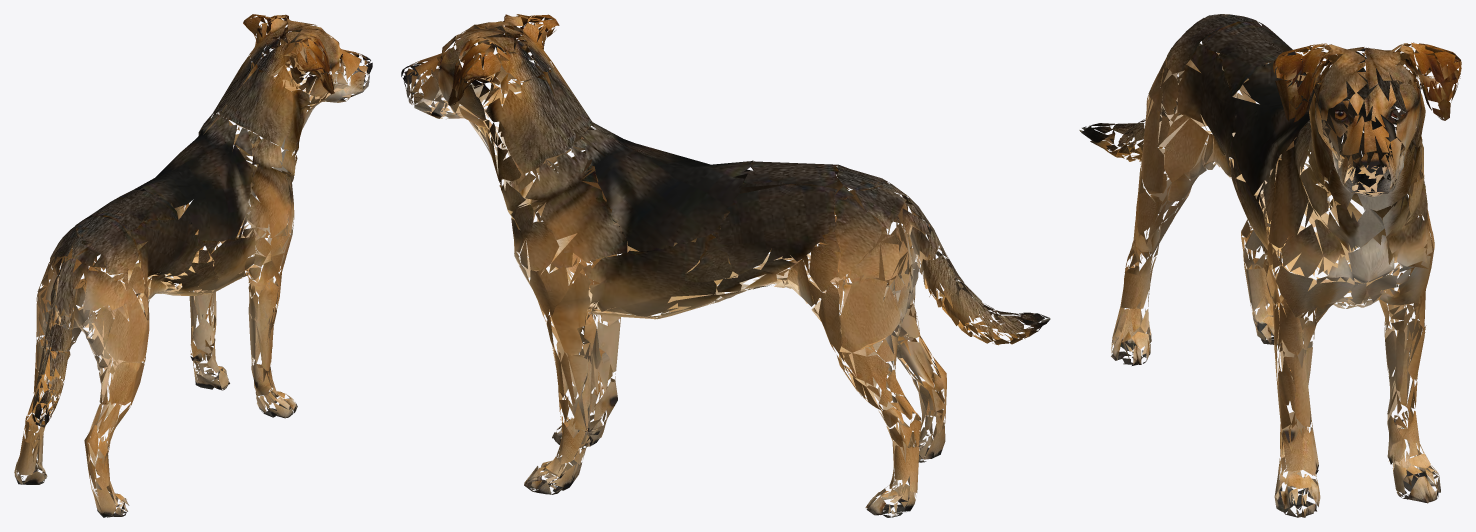
File: dog.glb
3 views of the same model, side by side, from view 1: azimuth 30°, elevation 25°; view 2: azimuth 150°, elevation 25°; view 3: azimuth 270°, elevation 25° (orthographic). The views are drawn at different scales.
Visible parts, largest first — view 1: model; view 2: model; view 3: model.
Boxes of the visible parts, x1,y1,x2,y2 form: model: [14, 14, 372, 517]; model: [401, 14, 1050, 517]; model: [1079, 14, 1461, 517].
Size of the model in its own units: 9 by 7.05 by 5.01.
1 material, 1 textured.
